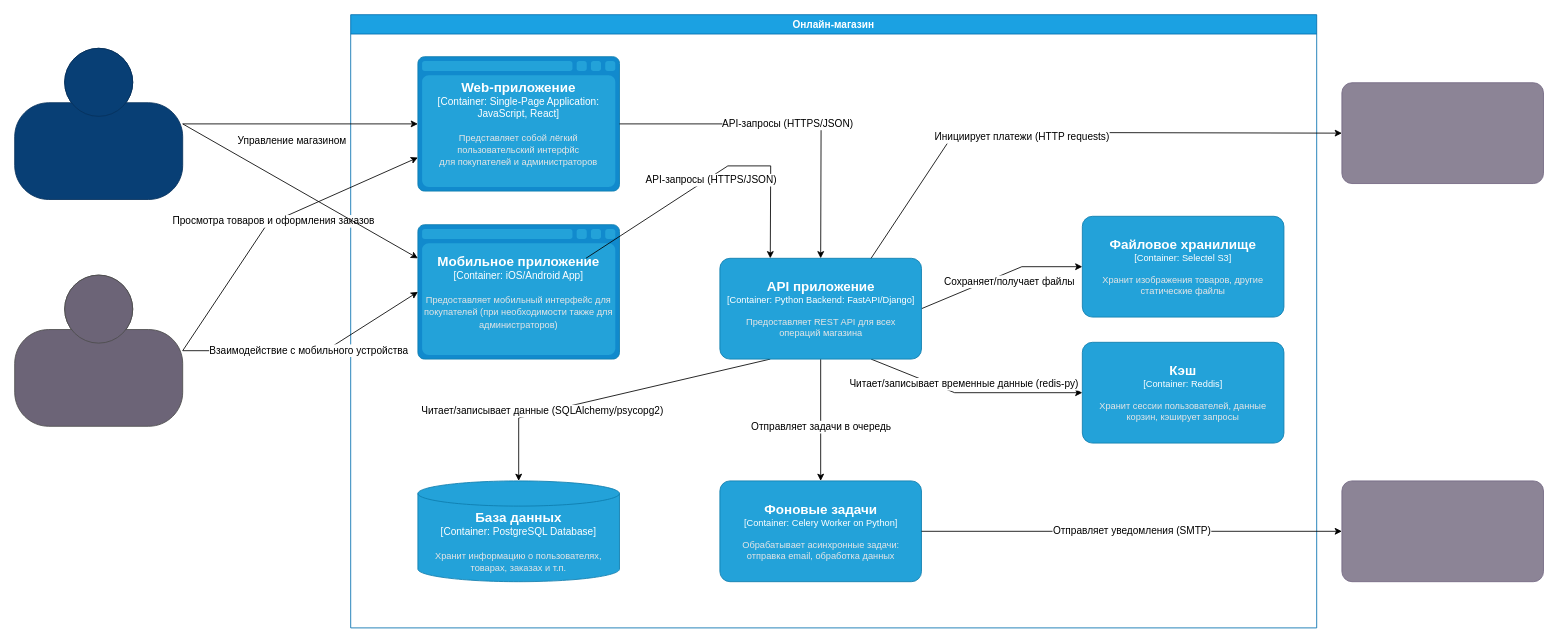
Image size: 1558x643. Some labels were removed from this diagram. Here are the shapes that lost their labels. From the top down, the box of each, then its label:
(14, 47, 183, 200): Администратор [Person] Управляет интернет-магазином
(1341, 82, 1544, 184): Платёжный шлюз [Software System] Обрабатывает электронные платежи
(14, 274, 183, 426): Покупатель [Person] Взаимодействует с интернет-магазином
(1341, 480, 1544, 582): Система отправки email [Software System] Отправка уведомлений по email
